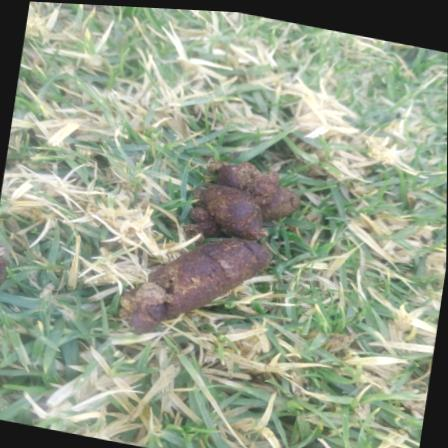dog-poop: (120, 129, 322, 367)
